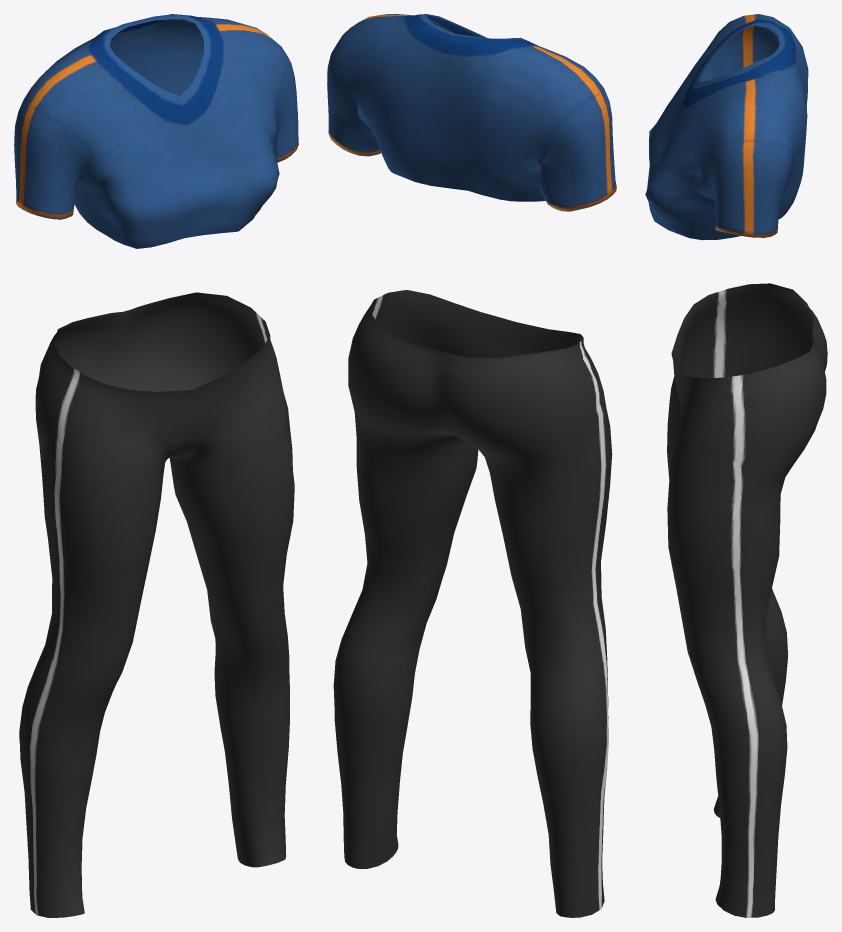
The model's file is female-sportsuit01.glb.
3 views of the same model, side by side, from view 1: azimuth 30°, elevation 25°; view 2: azimuth 150°, elevation 25°; view 3: azimuth 270°, elevation 25° (orthographic). The views are drawn at different scales.
Visible parts, largest first — view 1: Human.female_sportsuit01; view 2: Human.female_sportsuit01; view 3: Human.female_sportsuit01.
Boxes of the visible parts, bbox=[...] form: Human.female_sportsuit01: bbox=[14, 14, 298, 917]; Human.female_sportsuit01: bbox=[327, 14, 616, 917]; Human.female_sportsuit01: bbox=[645, 14, 827, 917].
Size of the model in its own units: 0.4443 by 1.32 by 0.2655.
1 material, 1 textured.
